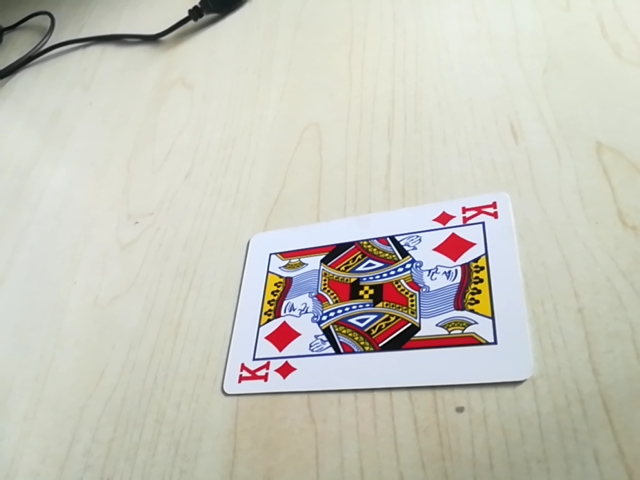fk k: (233, 358, 301, 391), (432, 199, 501, 227)
